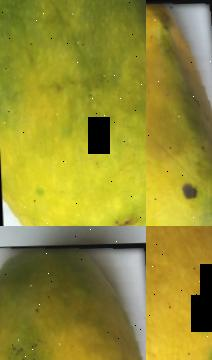PartiallyRipe: (0, 0, 146, 226), (0, 240, 146, 360)
Ripe: (146, 0, 212, 226), (146, 226, 212, 360)
